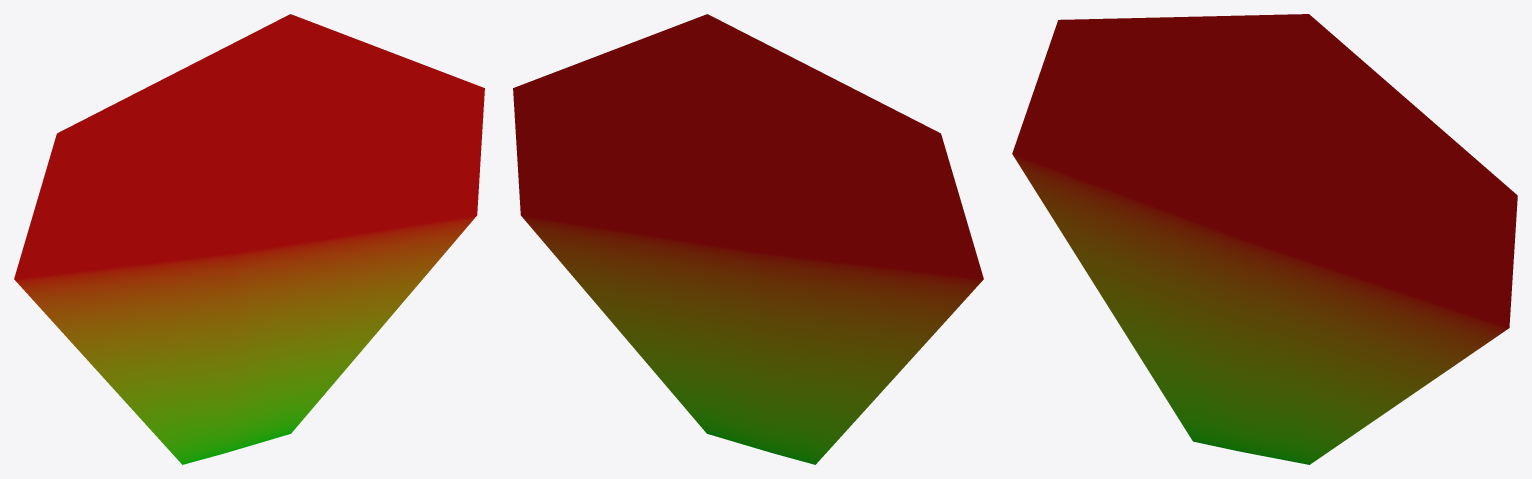
The model's file is Rose Hip_LOD5_Var3.fbx.
The picture shows the model from 3 angles, left to right: view 1: azimuth 30°, elevation 25°; view 2: azimuth 150°, elevation 25°; view 3: azimuth 330°, elevation 25°; orthographic projection. The views are drawn at different scales.
Visible parts, largest first — view 1: _6bcp_Var3_LOD5; view 2: _6bcp_Var3_LOD5; view 3: _6bcp_Var3_LOD5.
Boxes of the visible parts, box(x1,y1,x2,y2) form: _6bcp_Var3_LOD5: box(14, 14, 484, 464); _6bcp_Var3_LOD5: box(513, 14, 983, 464); _6bcp_Var3_LOD5: box(1012, 14, 1517, 464).
Size of the model in its own units: 161 by 139 by 1.16e-10.
